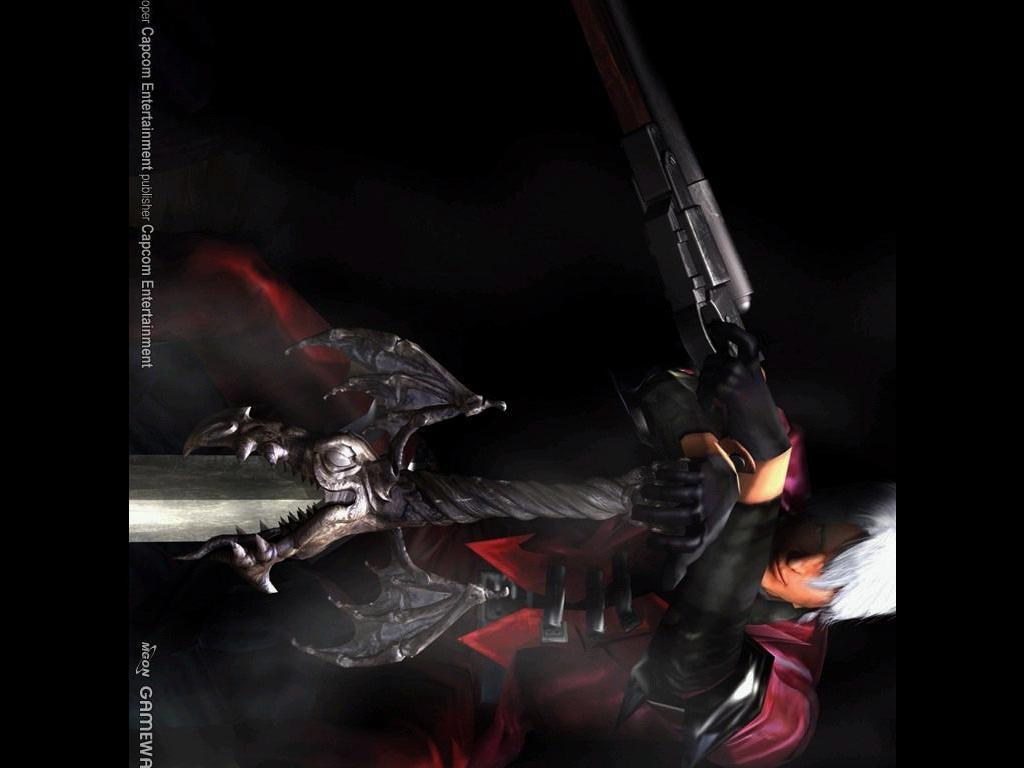gun: (543, 0, 757, 374)
